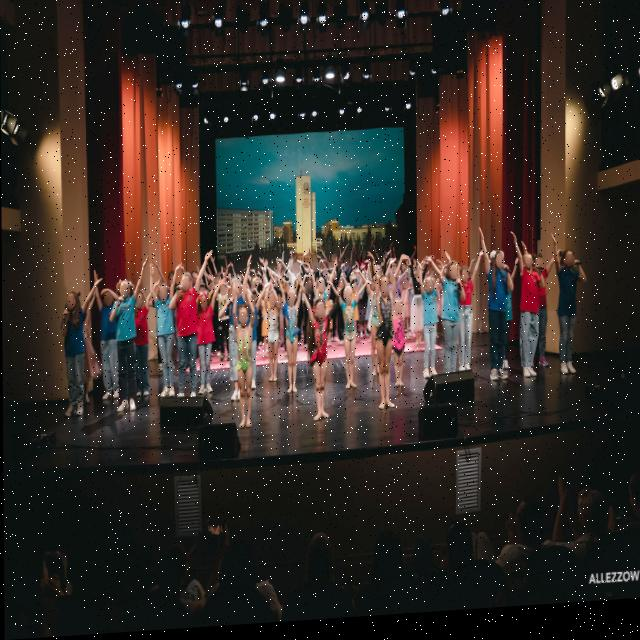Person: (55, 278, 91, 420), (480, 249, 513, 396), (230, 299, 259, 439), (113, 278, 139, 430), (193, 285, 223, 408), (170, 270, 198, 398), (307, 298, 333, 430), (435, 258, 461, 387), (562, 246, 586, 385), (151, 275, 175, 411), (515, 257, 539, 391), (373, 275, 394, 423), (456, 266, 481, 386), (228, 269, 248, 408), (416, 277, 440, 391), (96, 280, 118, 404), (281, 281, 303, 402), (533, 258, 554, 376), (337, 285, 357, 401), (388, 298, 407, 403), (134, 286, 149, 402), (263, 291, 280, 393), (410, 266, 424, 355), (217, 281, 231, 368), (280, 282, 296, 355), (301, 281, 314, 352), (398, 281, 413, 342), (261, 289, 270, 361), (314, 280, 328, 308), (427, 271, 438, 294), (386, 273, 399, 291), (393, 268, 404, 286), (414, 270, 423, 290), (167, 273, 176, 291), (360, 251, 370, 267), (337, 283, 346, 300), (247, 283, 257, 298), (321, 273, 331, 287), (344, 261, 352, 278), (220, 284, 229, 298), (292, 265, 299, 282), (199, 282, 205, 301), (330, 257, 336, 276), (313, 264, 320, 278), (209, 283, 216, 295), (213, 275, 219, 289), (272, 277, 279, 289), (249, 286, 256, 297)
